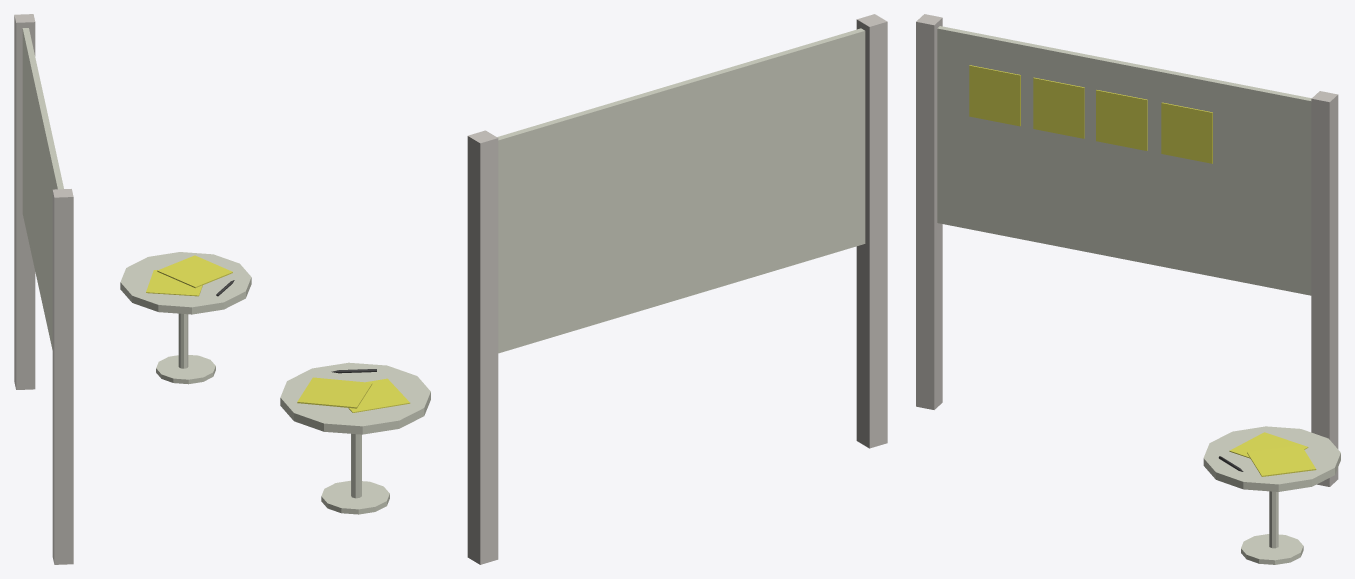
File: desk.glb
3 renders of one model, left to right at view 1: azimuth 30°, elevation 25°; view 2: azimuth 150°, elevation 25°; view 3: azimuth 270°, elevation 25°, orthographic. The views are drawn at different scales.
Visible parts, largest first — view 1: Plane.008; view 2: Plane.008; view 3: Plane.008.
Boxes of the visible parts, x1,y1,x2,y2 form: Plane.008: [14, 14, 251, 564]; Plane.008: [280, 14, 887, 564]; Plane.008: [916, 14, 1340, 564].
Size of the model in its own units: 1.65 by 1.63 by 1.63.
